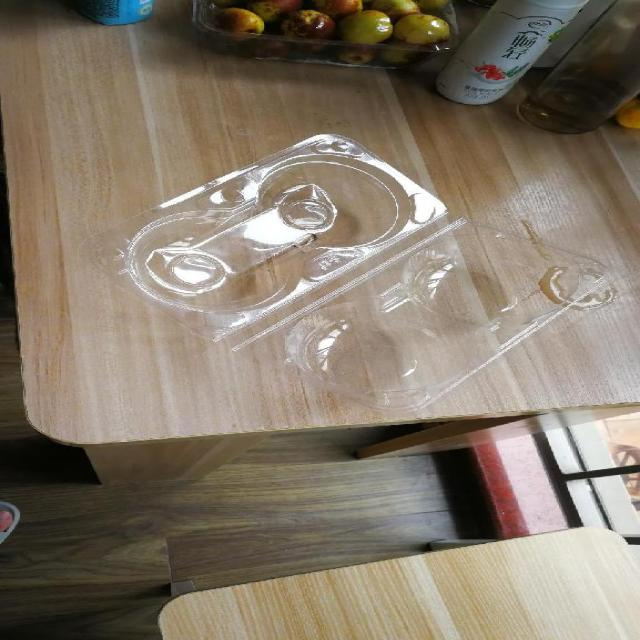Wet: (211, 0, 449, 68)
